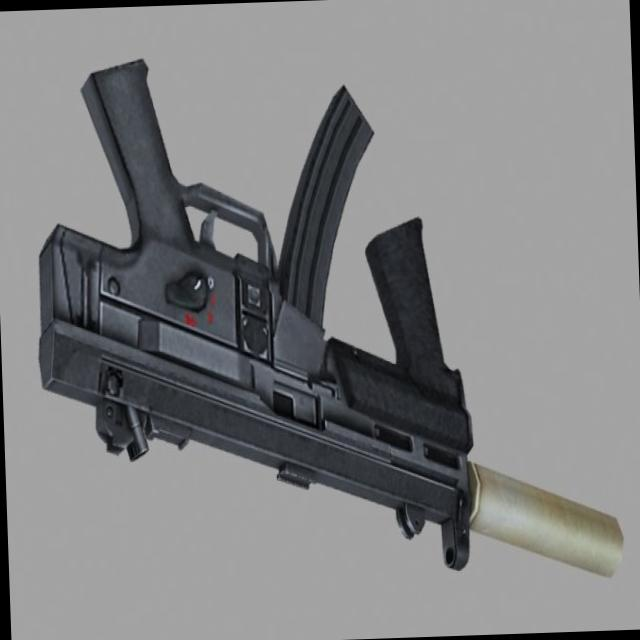Weapon: (26, 36, 628, 607)
